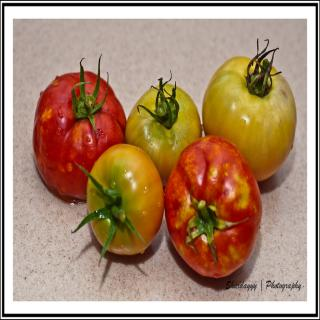tomato: (162, 134, 264, 280), (32, 53, 129, 199), (200, 39, 298, 183), (73, 144, 164, 265), (124, 67, 202, 185)
